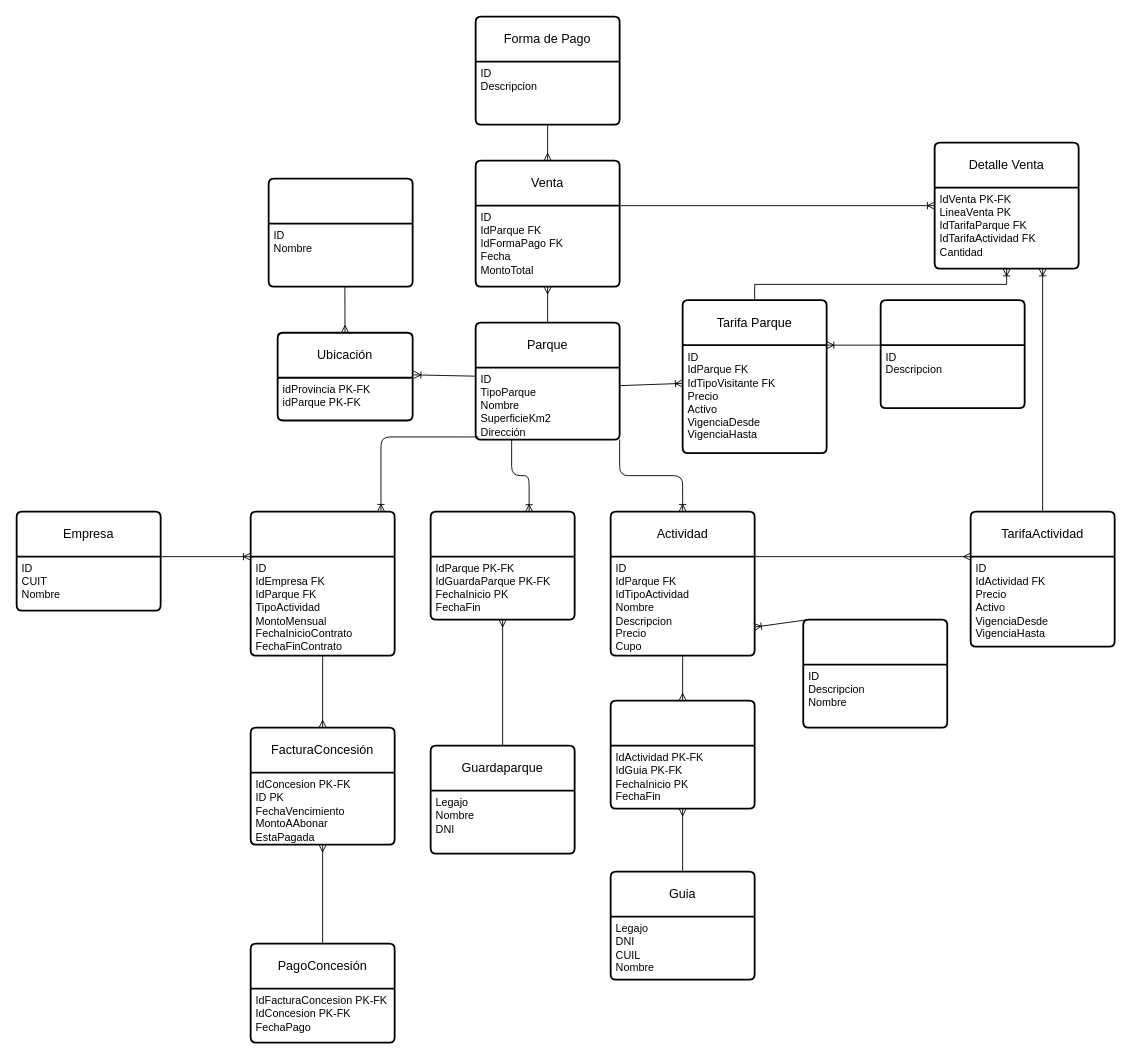
Image size: 1130x1058. Some labels were removed from this diagram. Each missing label, with the box of its shape:
AsignacionesGuarparque: (429, 510, 575, 620)
Concesion: (249, 510, 395, 656)
GuiaActividad: (609, 699, 755, 809)
Provincia: (267, 177, 413, 287)
Tipo Actividad: (802, 618, 948, 728)
Tipo Visitante: (879, 299, 1025, 409)
